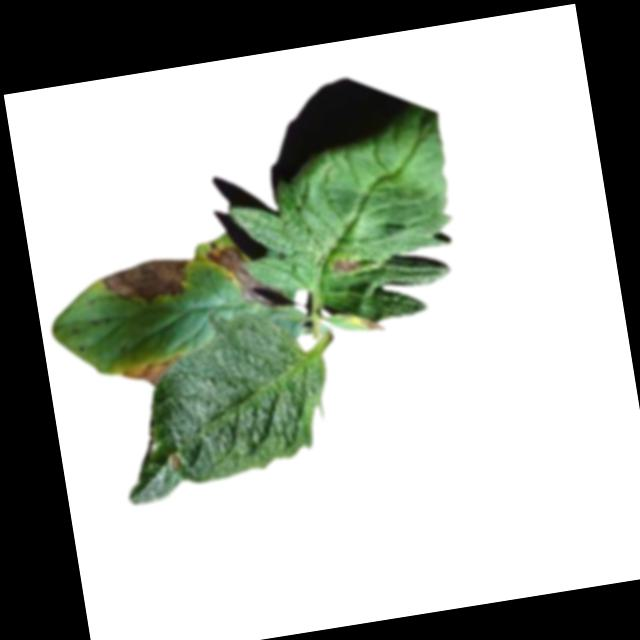Early_blight: (203, 230, 291, 318), (91, 253, 193, 314), (117, 353, 186, 392), (331, 254, 360, 278), (358, 314, 387, 336), (165, 453, 182, 471)
